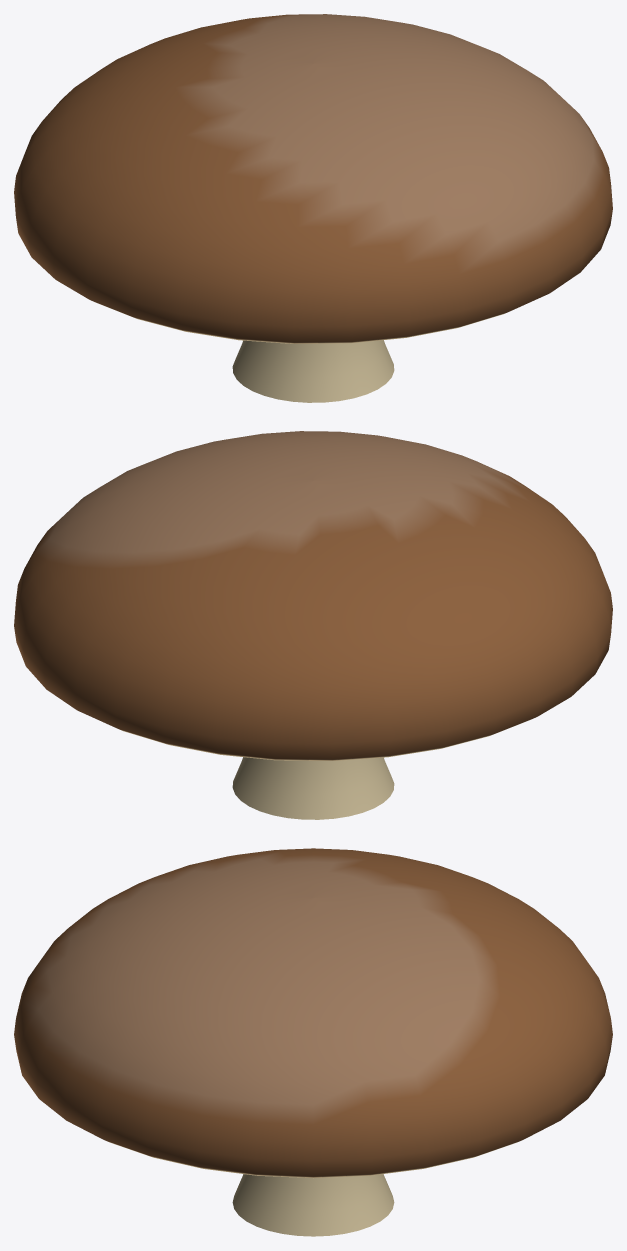
File: mushroom-pad-brown.obj
3 renders of one model, top to bottom at view 1: azimuth 30°, elevation 25°; view 2: azimuth 150°, elevation 25°; view 3: azimuth 270°, elevation 25°, orthographic.
Visible parts, largest first — view 1: mushroom; view 2: mushroom; view 3: mushroom.
Boxes of the visible parts, <box> form: mushroom: <box>14,14,612,402</box>; mushroom: <box>14,431,612,819</box>; mushroom: <box>14,848,612,1236</box>.
Bounding box in the file's own units: 580 × 325 × 580.
